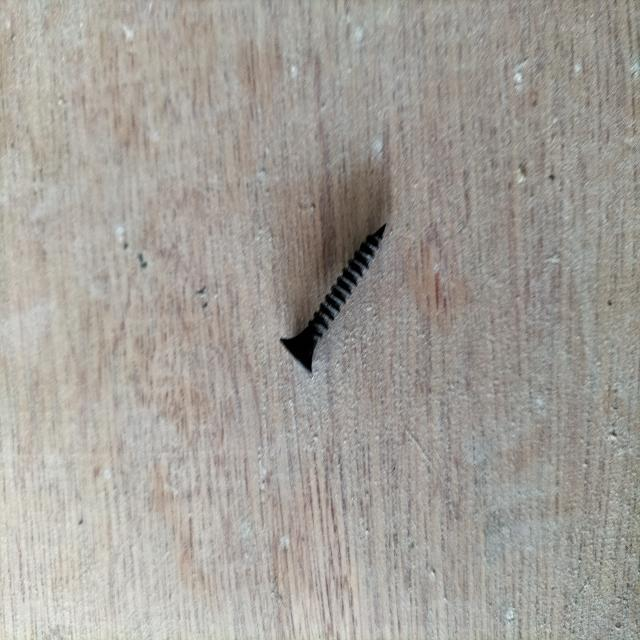screw: (280, 222, 387, 376)
